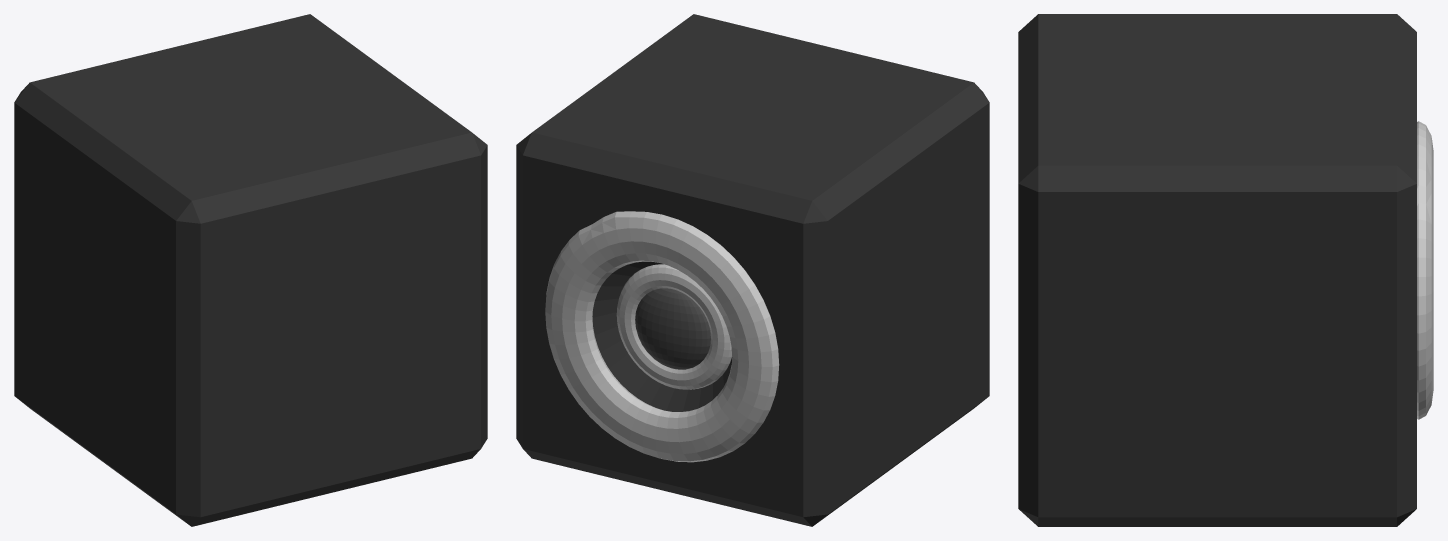
Rendered from speaker.obj.
The picture shows the model from 3 angles, left to right: view 1: azimuth 30°, elevation 25°; view 2: azimuth 150°, elevation 25°; view 3: azimuth 270°, elevation 25°; orthographic projection. The views are drawn at different scales.
Parts seen in each view (by area): view 1: 立方体.004; view 2: 立方体.004; view 3: 立方体.004.
Part boxes in pixels (left/top/right/bottom): 立方体.004: left=14, top=14, right=487, bottom=526; 立方体.004: left=516, top=14, right=989, bottom=526; 立方体.004: left=1018, top=14, right=1433, bottom=526.
Bounding box in the file's own units: 2 × 2 × 2.08.
Materials: 1 (1 with a texture image).
